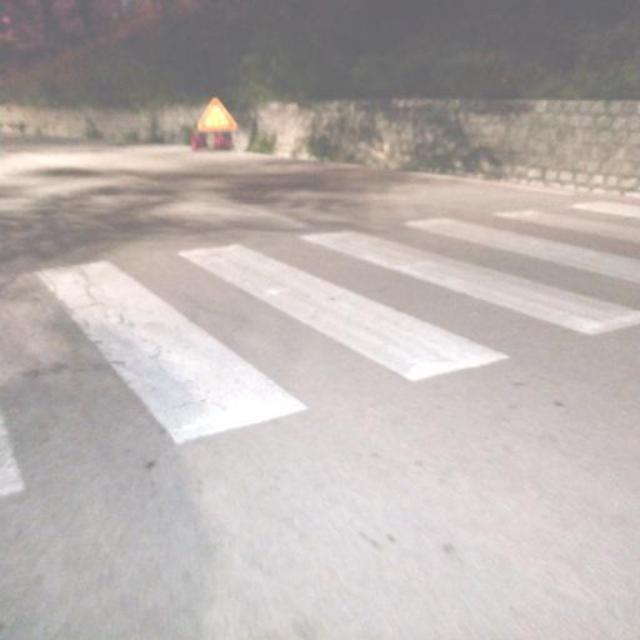sidewalk: (0, 192, 640, 507)
